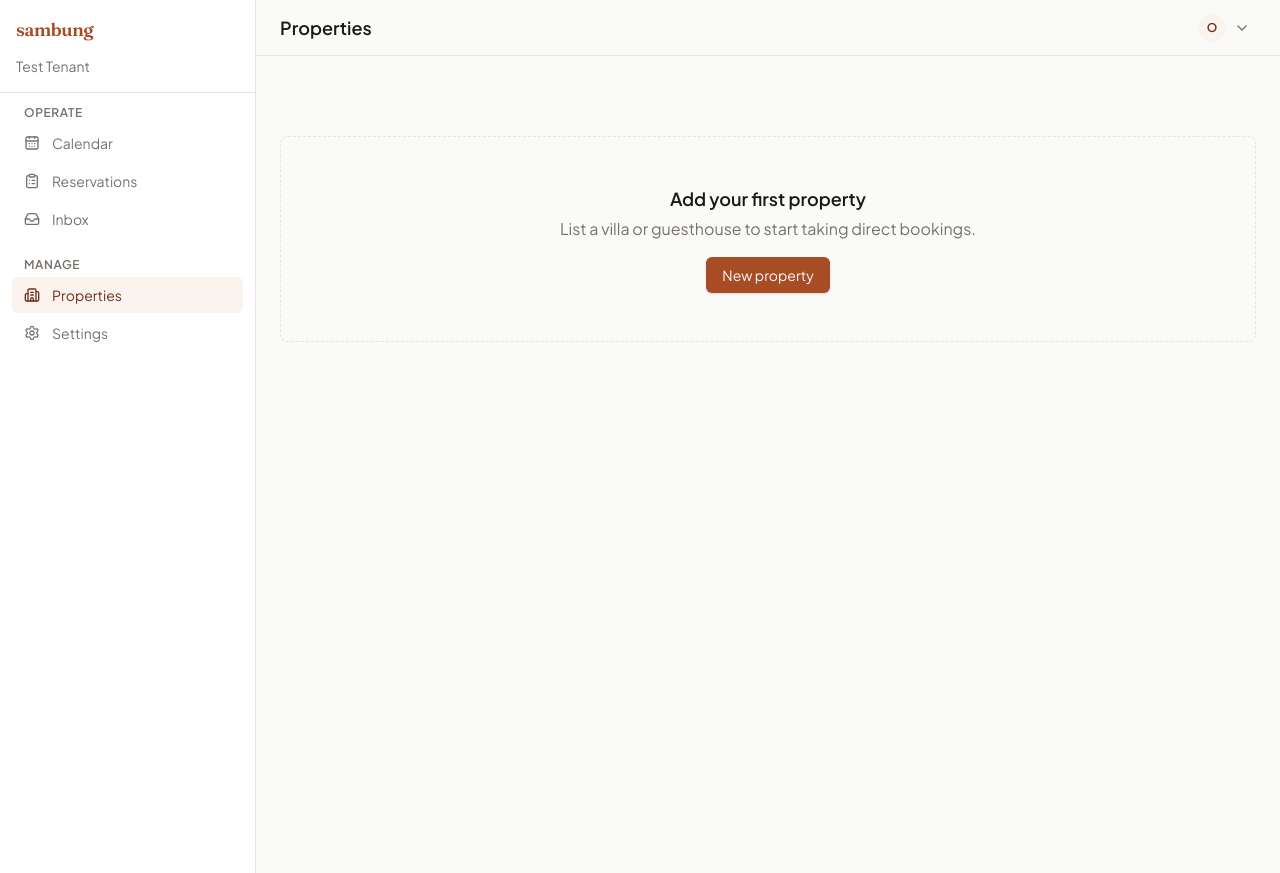
Test case: properties list (§4.4) › creates a property and navigates to its edit page
This screenshot has width=1280, height=873.
Click the button "New property" at point(768, 275), box [706,257,830,293]
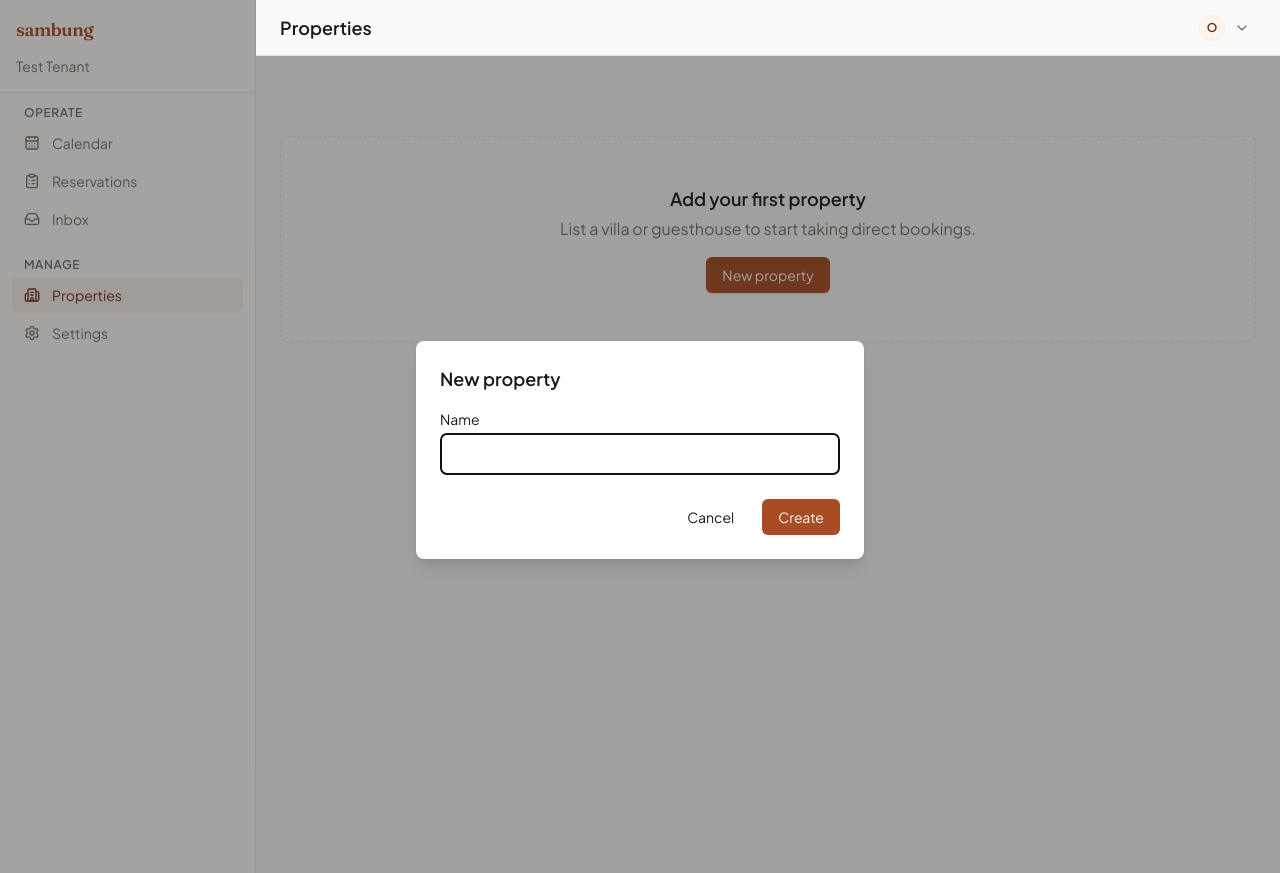
Type "Fresh Villa" into the field labelled "Name" at point(640, 454), box [440,433,840,475]
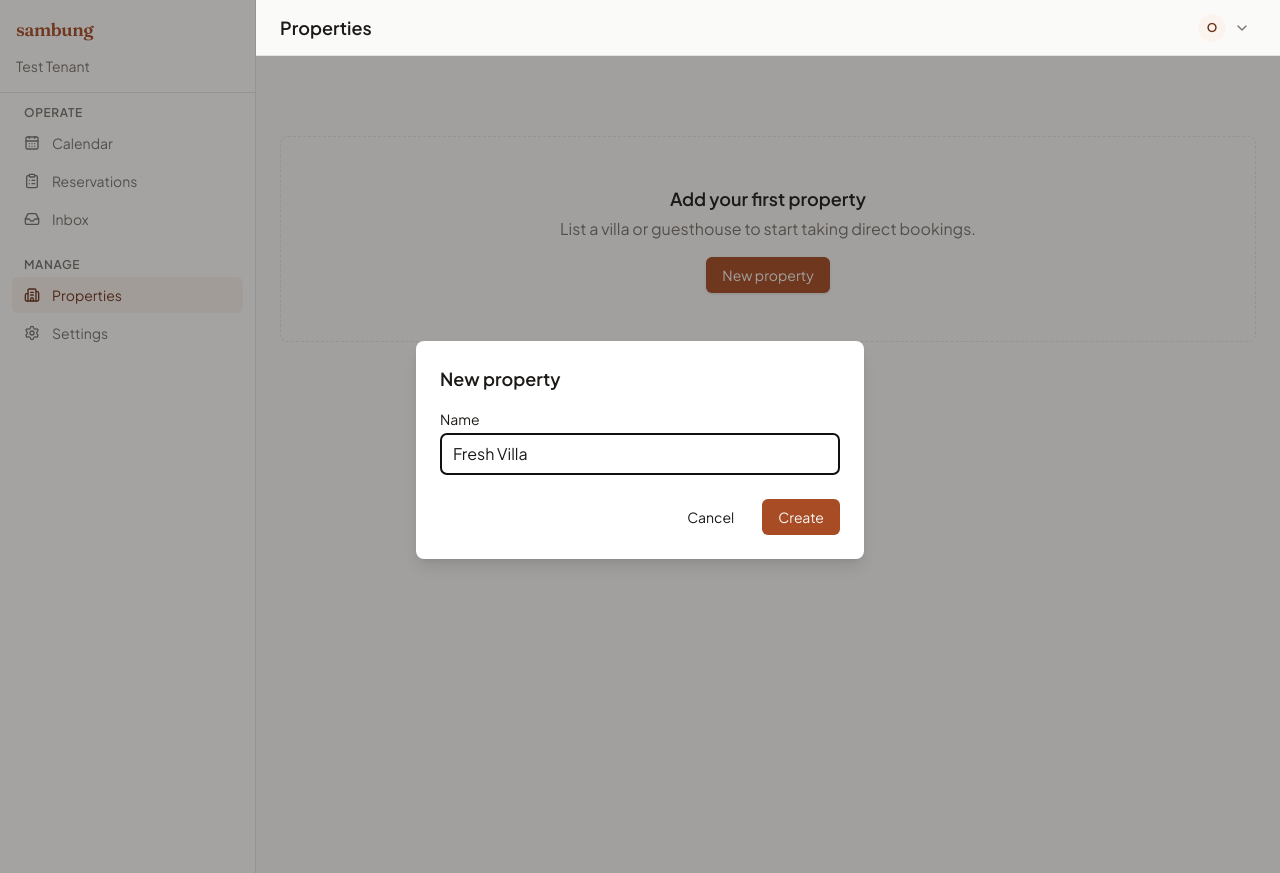
Click the button "Create" at point(801, 517), box [762,499,840,535]
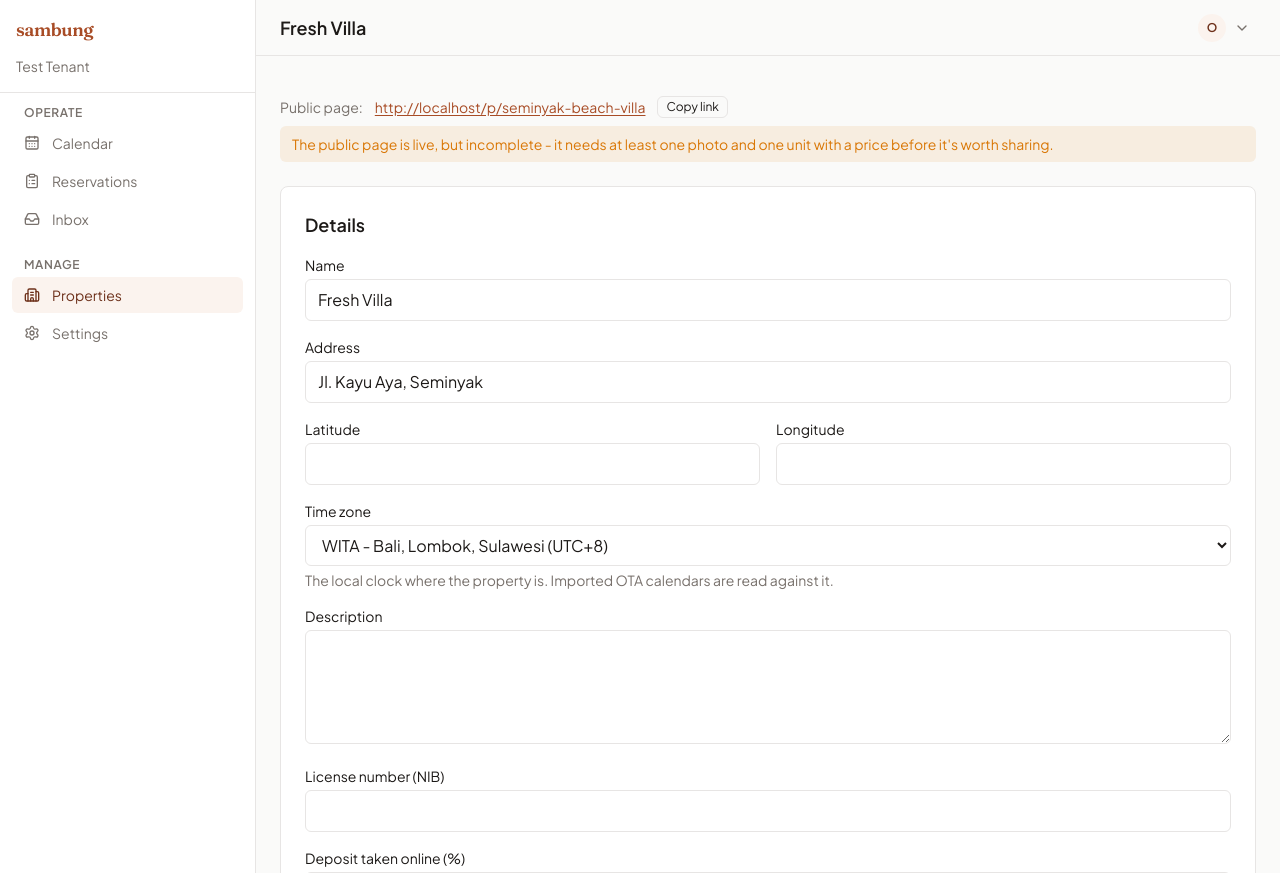
Check: the heading "Details" is shown, box [305,213,365,236]
